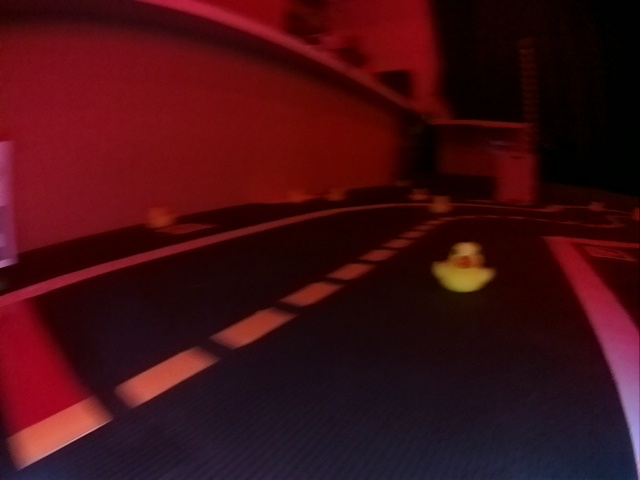Duckie: (430, 244, 496, 293), (148, 207, 173, 228), (430, 196, 451, 214), (327, 187, 345, 201)
